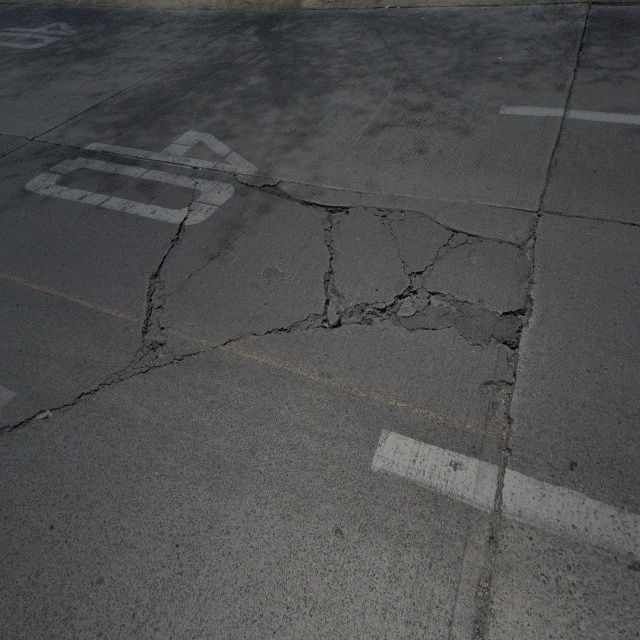pothole: (138, 270, 168, 352), (479, 370, 518, 409), (376, 289, 418, 324), (322, 202, 352, 225)
